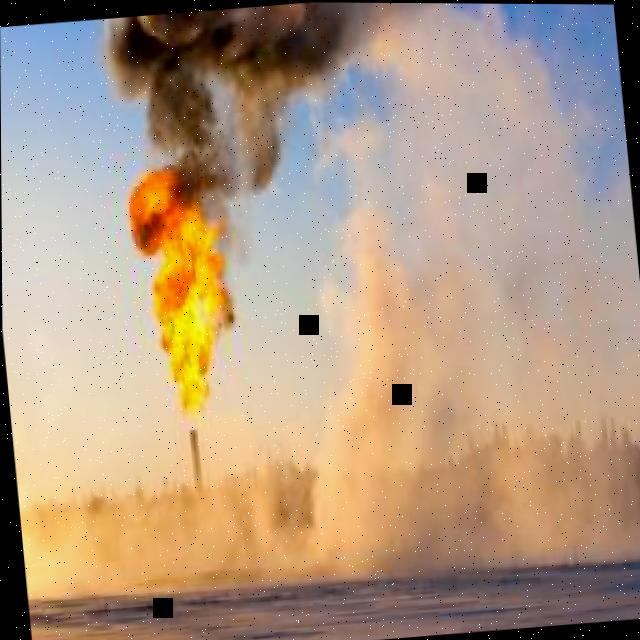fire: (126, 164, 233, 418)
smoke: (100, 2, 390, 269)
